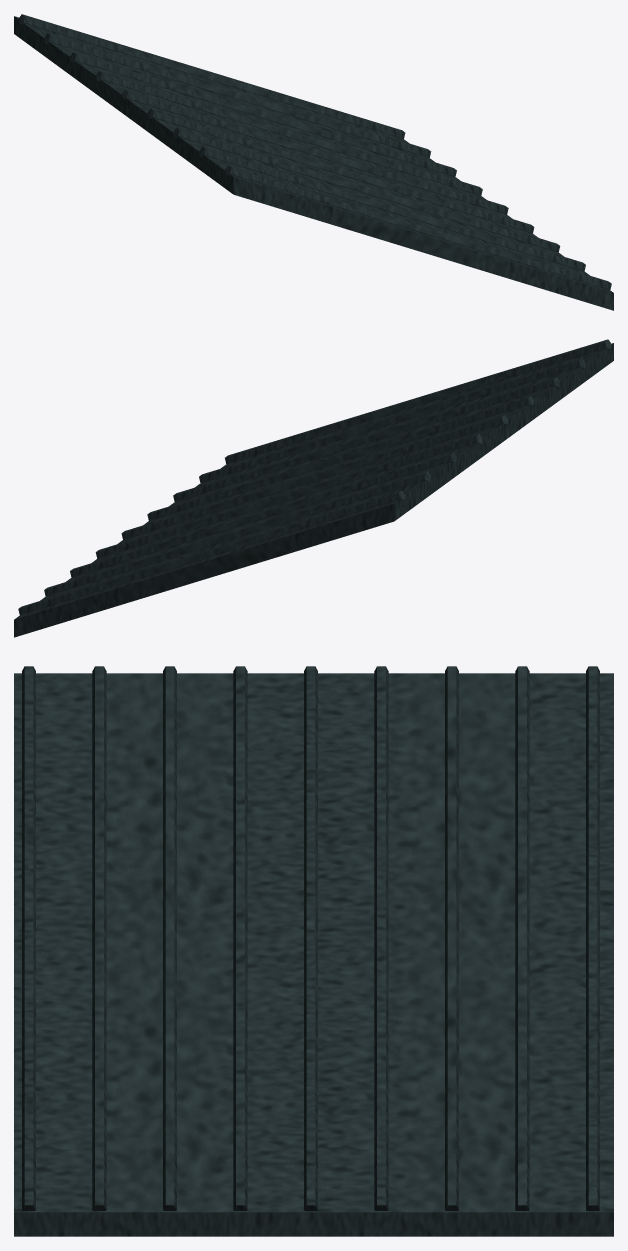
File: Roof_Slope_L_2x2.glb
The picture shows the model from 3 angles, top to bottom: view 1: azimuth 30°, elevation 25°; view 2: azimuth 150°, elevation 25°; view 3: azimuth 270°, elevation 25°; orthographic projection. The views are drawn at different scales.
Parts seen in each view (by area): view 1: Roof_Slope_L_2x2; view 2: Roof_Slope_L_2x2; view 3: Roof_Slope_L_2x2.
Part boxes in pixels (x1,y1,x2,y2): Roof_Slope_L_2x2: (14, 14, 613, 310); Roof_Slope_L_2x2: (14, 339, 613, 637); Roof_Slope_L_2x2: (14, 666, 613, 1236).
Size of the model in its own units: 2.02 by 1.17 by 2.
Materials: 1 (1 with a texture image).
